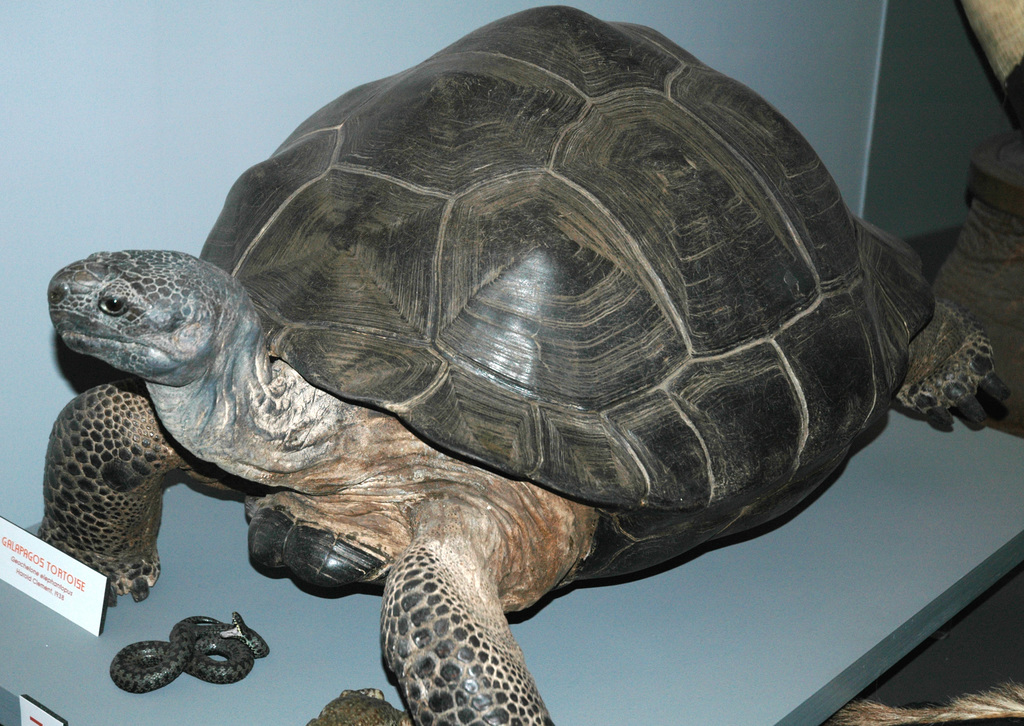Sea turtles: (32, 5, 1012, 725)
